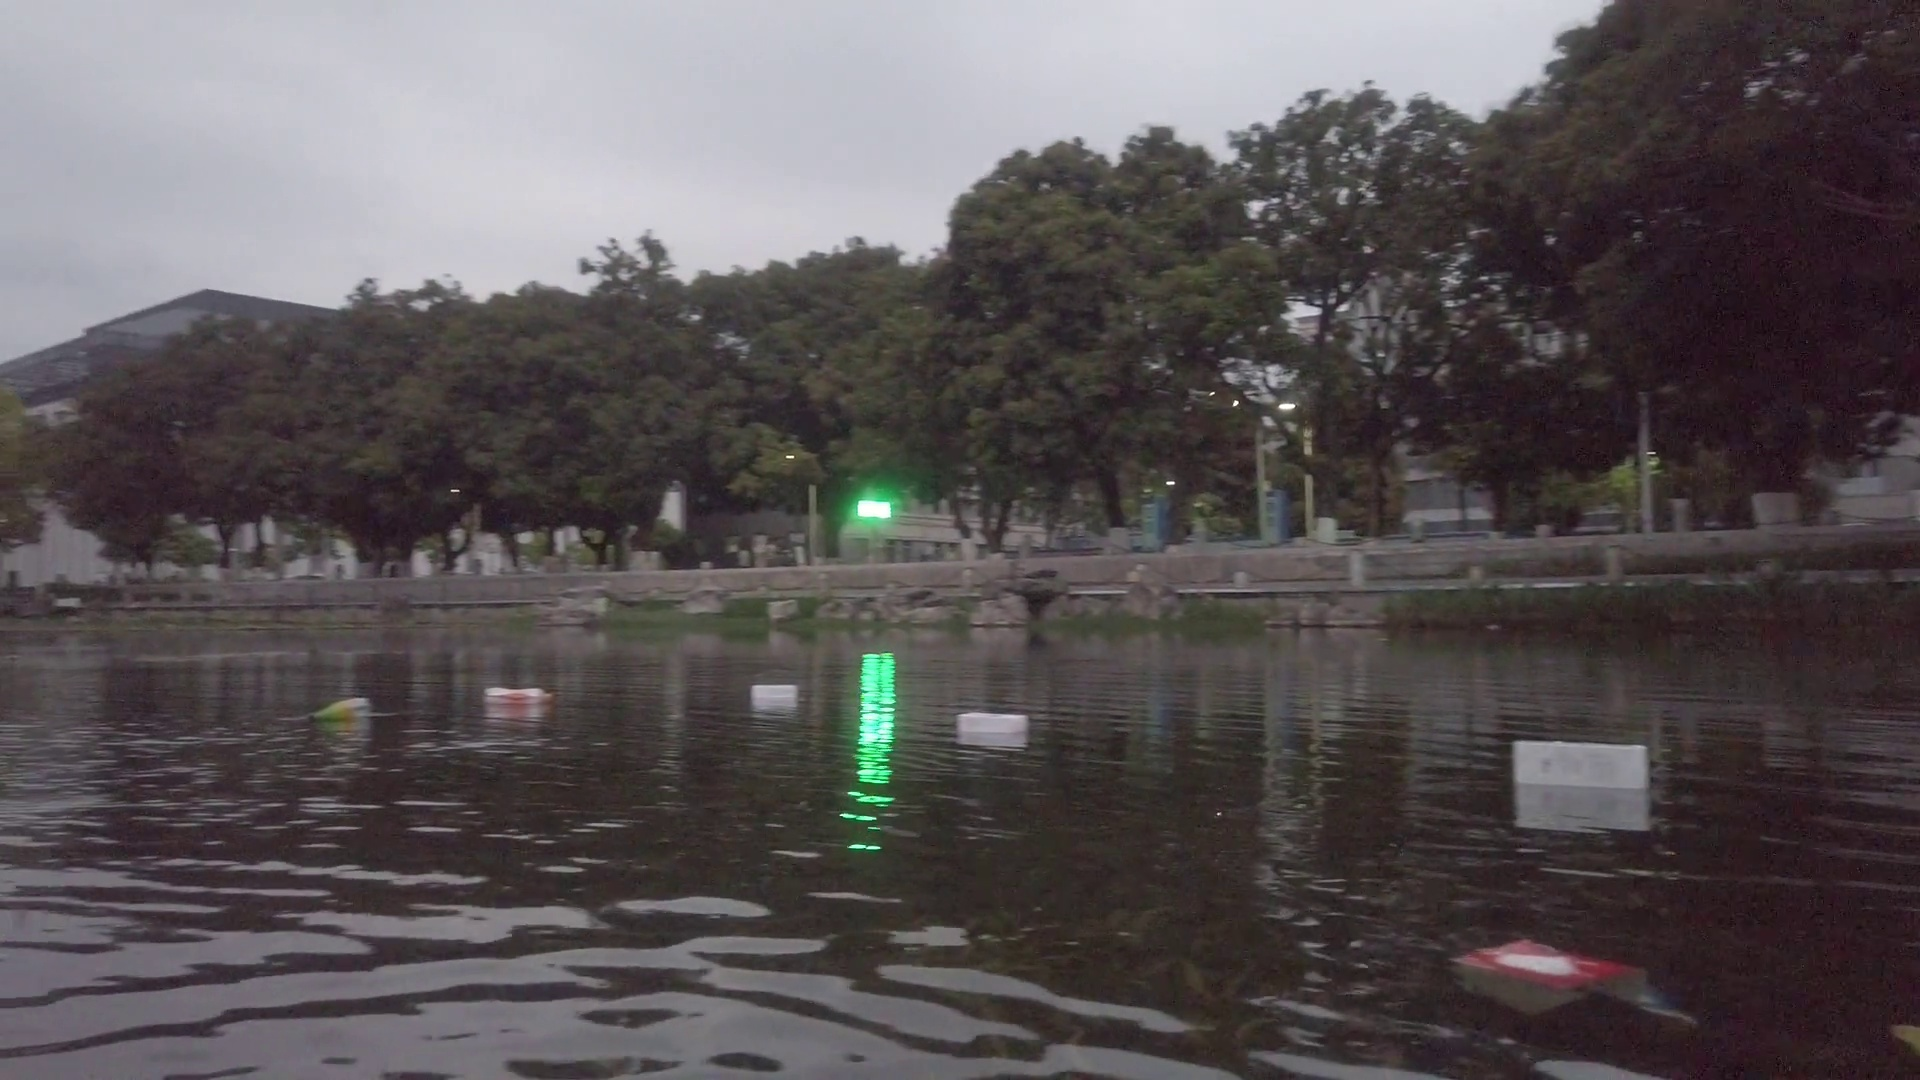bottle: (306, 695, 371, 721), (485, 684, 554, 705)
carton: (1513, 737, 1650, 789), (953, 712, 1033, 735), (752, 682, 799, 700)
paper: (1464, 928, 1629, 1007)
